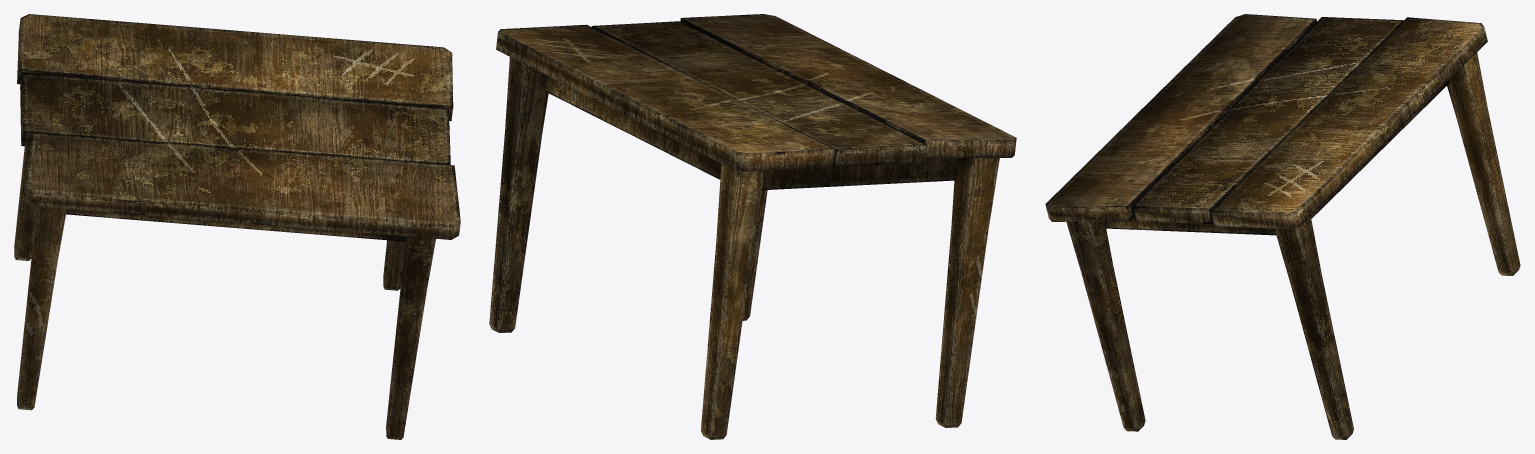
The picture shows the model from 3 angles, left to right: view 1: azimuth 30°, elevation 25°; view 2: azimuth 150°, elevation 25°; view 3: azimuth 270°, elevation 25°; orthographic projection. The views are drawn at different scales.
Parts seen in each view (by area): view 1: STable_STM; view 2: STable_STM; view 3: STable_STM.
Boxes of the visible parts, left/top/right/bottom form: STable_STM: left=14, top=14, right=460, bottom=439; STable_STM: left=489, top=14, right=1016, bottom=439; STable_STM: left=1045, top=14, right=1520, bottom=439.
Size of the model in its own units: 1.31 by 0.9298 by 1.26.
Materials: 1 (1 with a texture image).
